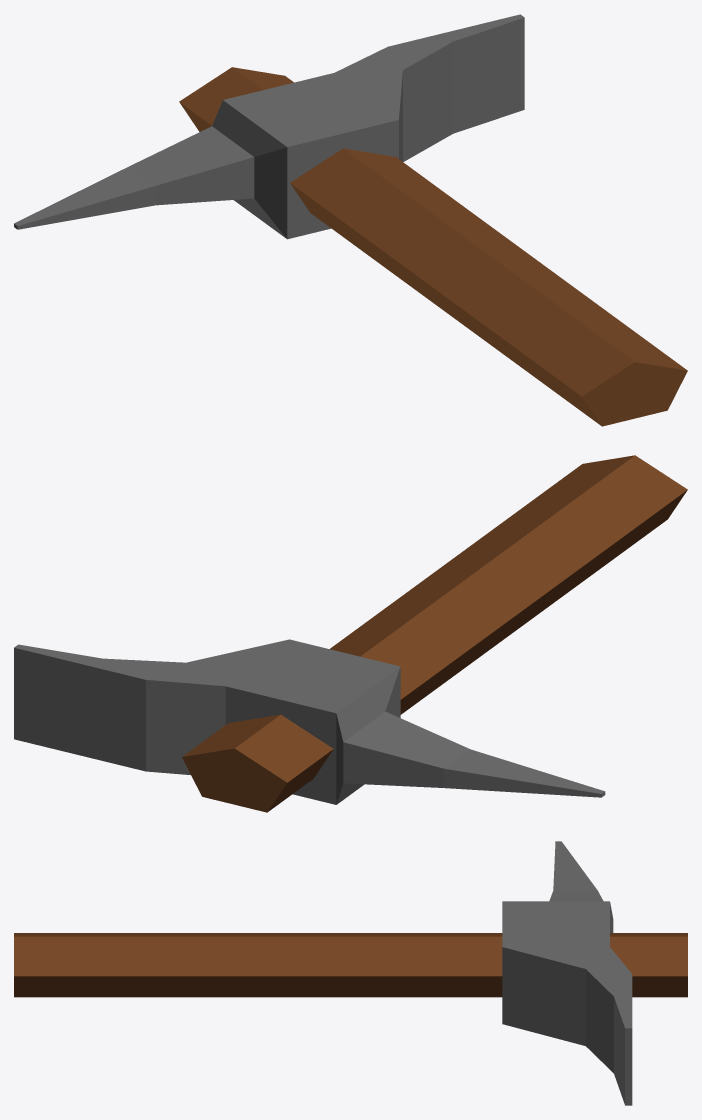
The model's file is mattock.fbx.
3 views of the same model, one above another, from view 1: azimuth 30°, elevation 25°; view 2: azimuth 150°, elevation 25°; view 3: azimuth 270°, elevation 25° (orthographic). The views are drawn at different scales.
Parts seen in each view (by area): view 1: Cylinder, Cube; view 2: Cube, Cylinder; view 3: Cylinder, Cube.
Part boxes in pixels (left/top/right/bottom): Cylinder: left=179, top=67, right=687, bottom=426; Cube: left=14, top=14, right=524, bottom=239; Cube: left=14, top=639, right=605, bottom=804; Cylinder: left=182, top=455, right=687, bottom=812; Cylinder: left=14, top=933, right=687, bottom=997; Cube: left=502, top=841, right=632, bottom=1105.
Size of the model in its own units: 984 by 158 by 1251.
